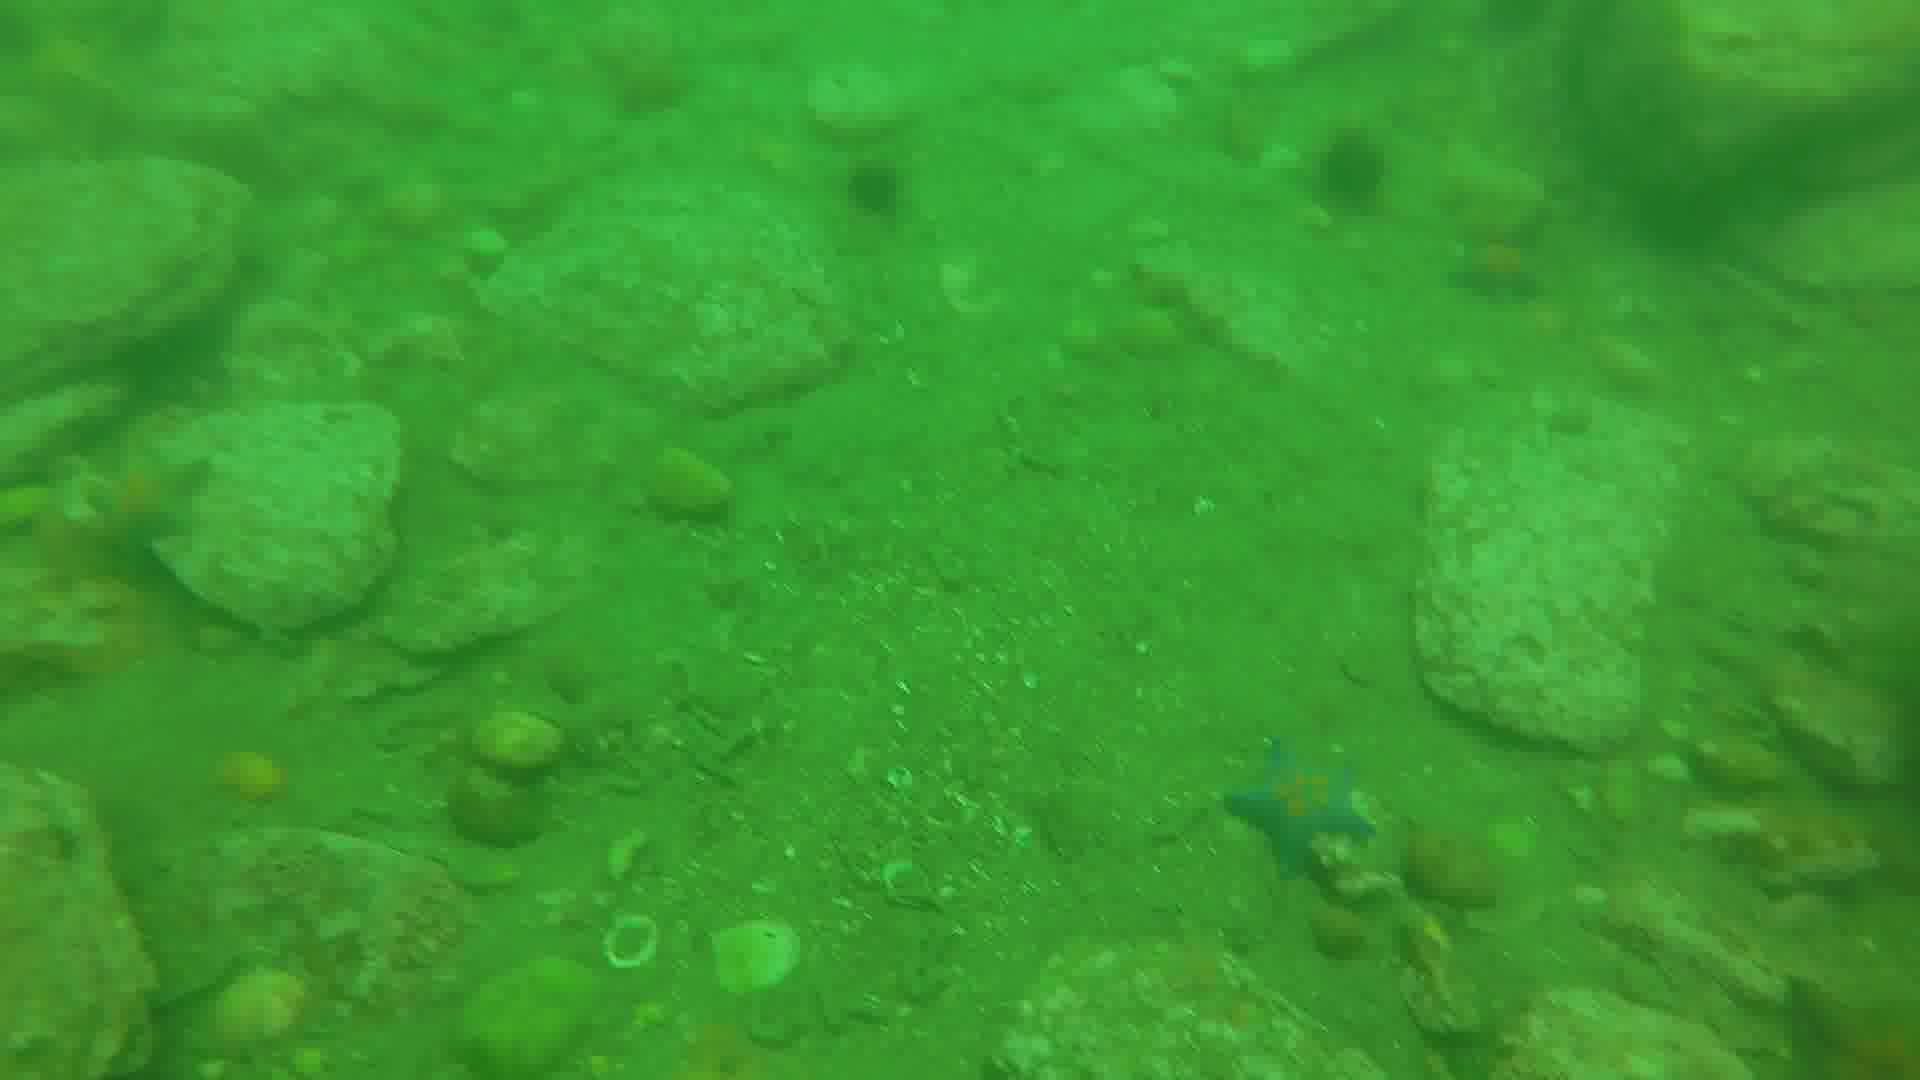echinus: (1312, 119, 1395, 214), (845, 158, 909, 218)
starfish: (1229, 731, 1373, 877), (1774, 971, 1920, 1080), (91, 452, 211, 547), (1447, 237, 1543, 313)
